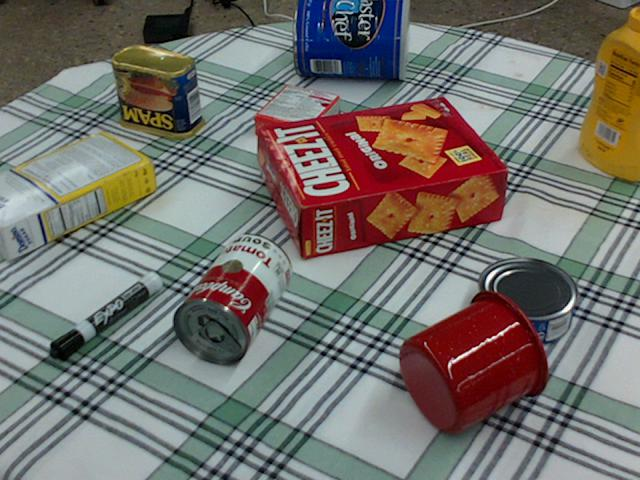cracker_box: (260, 97, 507, 257)
gelatin_box: (252, 81, 338, 148)
large_marker: (47, 271, 160, 361)
master_chef_can: (293, 0, 407, 78)
mug: (398, 286, 550, 434)
mustard_bottle: (577, 0, 639, 180)
potted_meat_can: (111, 45, 204, 138)
sugar_box: (0, 132, 153, 258)
tomato_soup_can: (171, 231, 292, 363)
tuna_fish_can: (477, 256, 579, 345)
